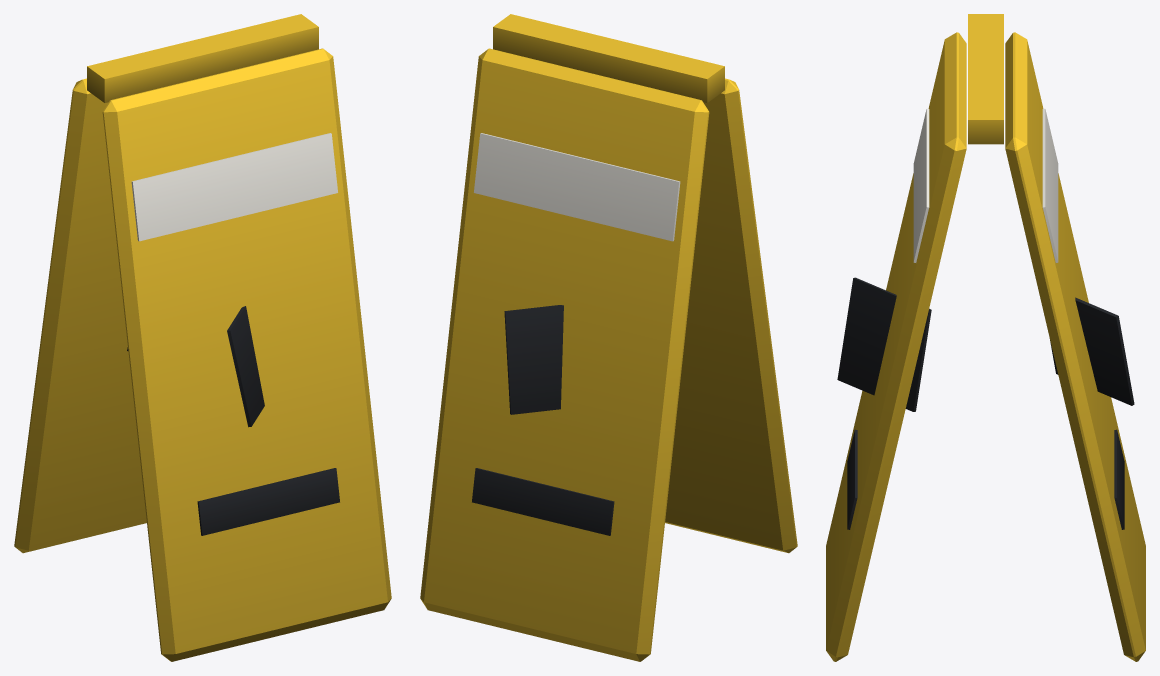
The model's file is wet_floor_sign_01.fbx.
3 renders of one model, left to right at view 1: azimuth 30°, elevation 25°; view 2: azimuth 150°, elevation 25°; view 3: azimuth 270°, elevation 25°, orthographic.
Parts seen in each view (by area): view 1: wet_floor_sign_01_LOD0; view 2: wet_floor_sign_01_LOD0; view 3: wet_floor_sign_01_LOD0.
Boxes of the visible parts, x1=… form: wet_floor_sign_01_LOD0: x1=14, y1=14, x2=391, y2=661; wet_floor_sign_01_LOD0: x1=420, y1=14, x2=797, y2=661; wet_floor_sign_01_LOD0: x1=826, y1=14, x2=1145, y2=661.
Size of what is drawn, in the model's own units: 0.3 by 0.668 by 0.357.
Materials: 1 (1 with a texture image).
